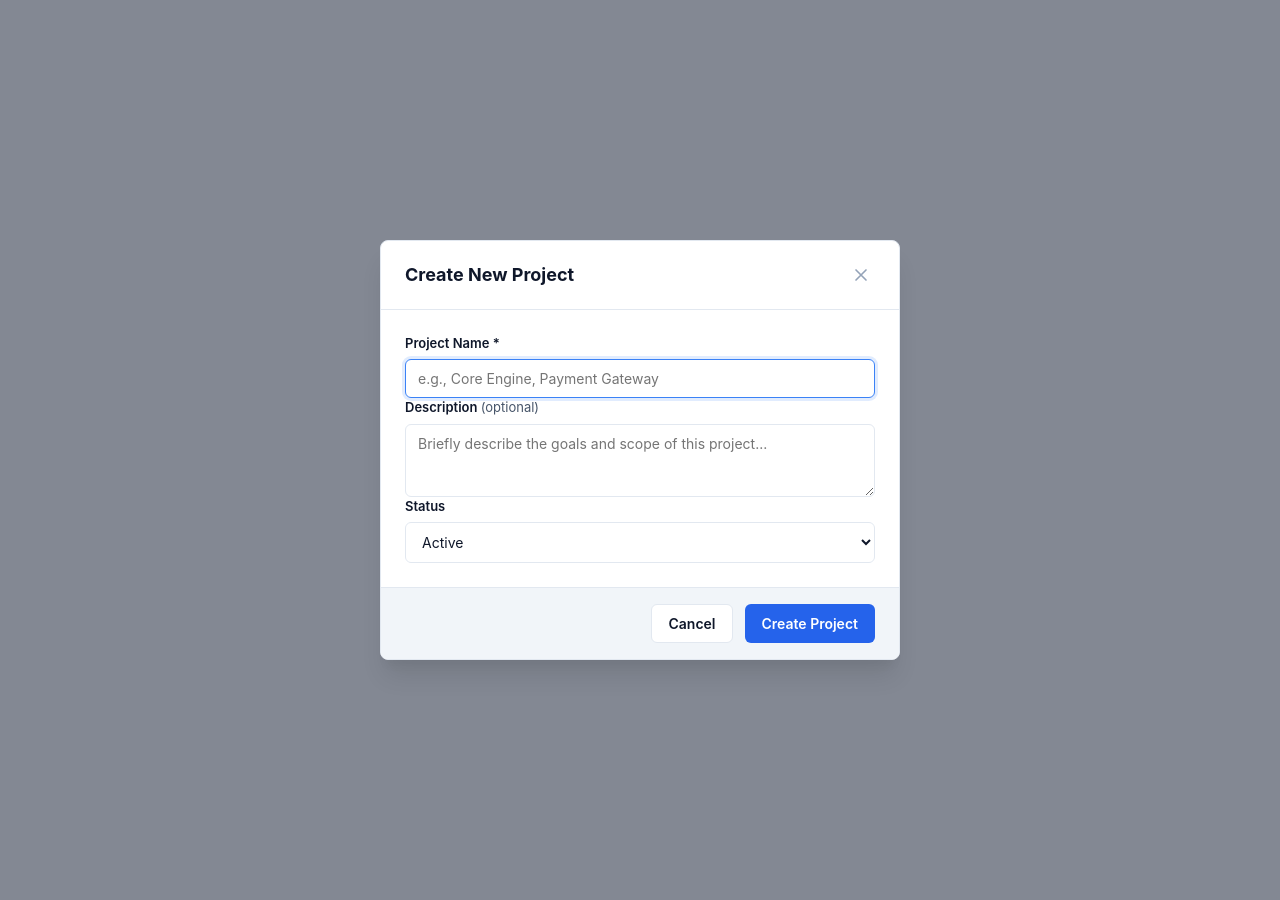
ProjectModal Component › displays client validation error when project name is empty
Click the button "Create Project" at (810, 624), box [744, 604, 875, 643]
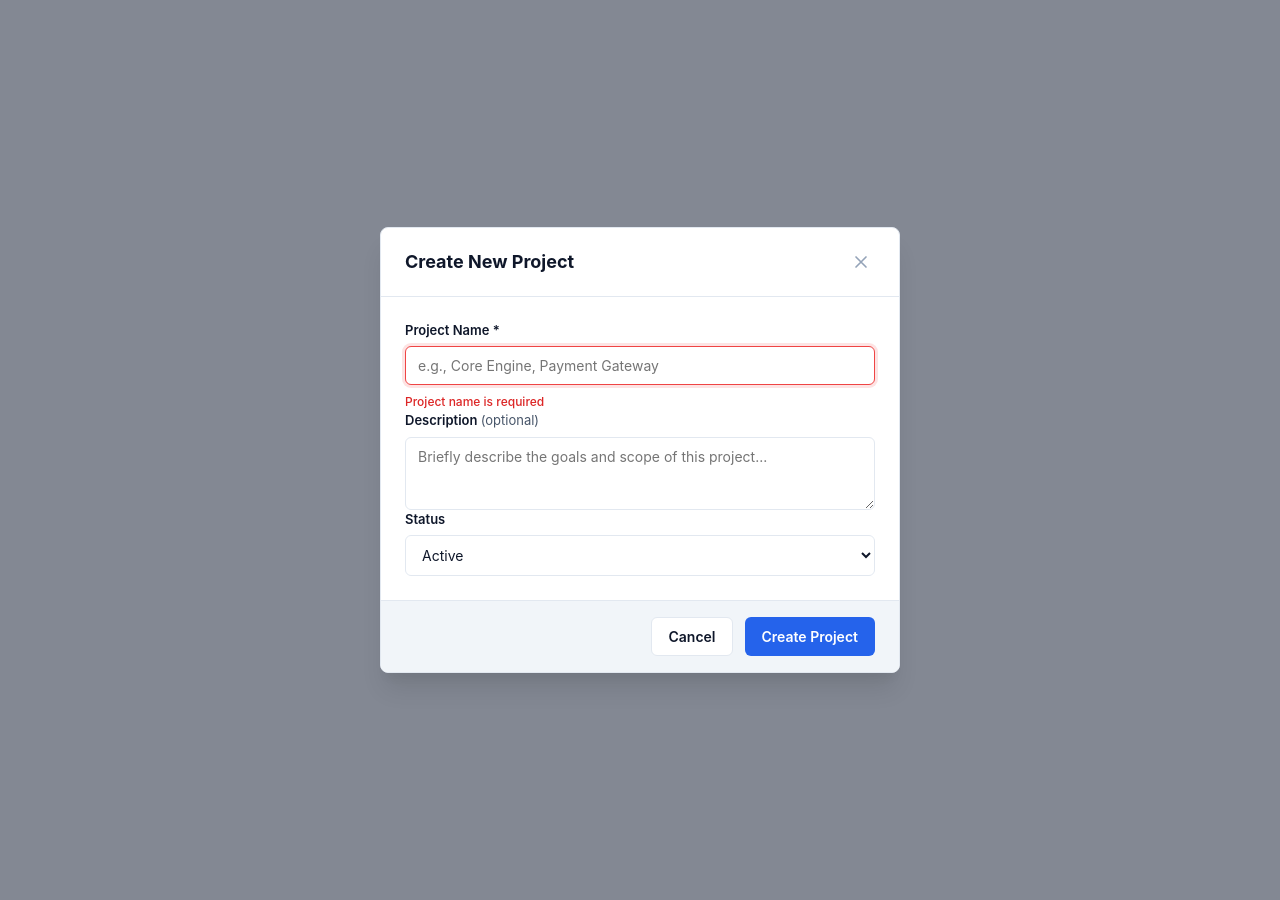
Now the message reads "Project name is required", box [405, 394, 544, 409]
